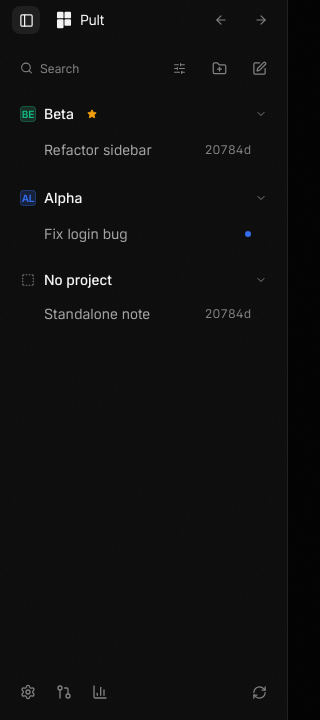
Scenario: Sidebar › renders Search placeholder and icon-only footer buttons with tooltips
Earlier steps of the test are not shown.
Hover over the button named "pull requests" at (64, 692), box [48,676,80,708]
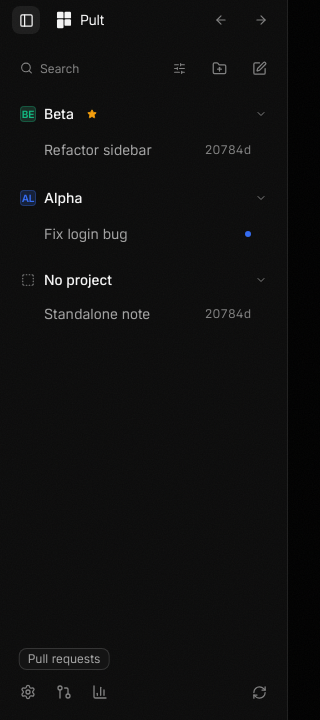
Now the tooltip reads "Pull requests", box [28,651,100,666]
Move the pointer off the button named "pull requests", box [48,676,80,708]
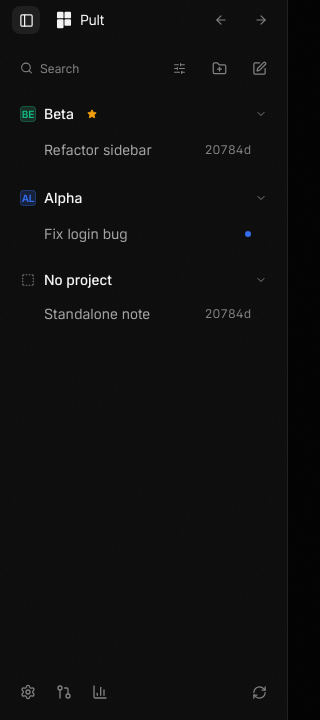
Now the tooltip "Pull requests" is gone
Hover over the button named "usage" at (100, 692), box [84,676,116,708]
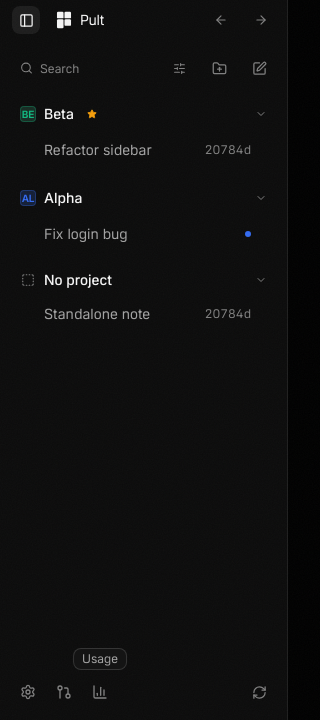
Now the tooltip reads "Usage", box [82,651,118,666]
Move the pointer off the button named "usage", box [84,676,116,708]
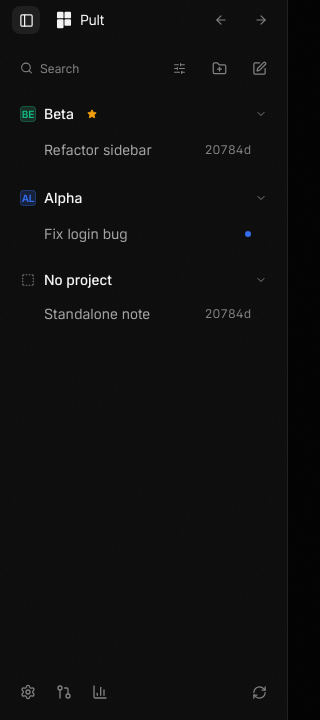
Now the tooltip "Usage" is gone
Hover over the button named "check for pult updates" at (259, 692), box [243,676,275,708]
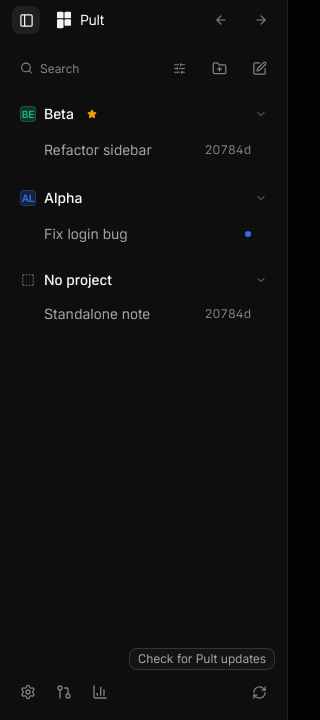
Now the tooltip reads "Check for Pult updates", box [138,651,266,666]
Move the pointer off the button named "check for pult updates", box [243,676,275,708]
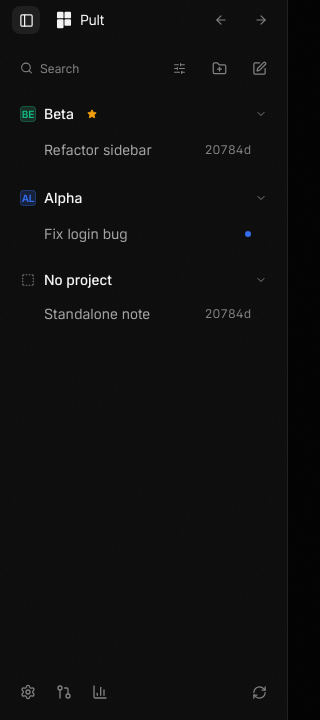
Now the tooltip "Check for Pult updates" is gone
